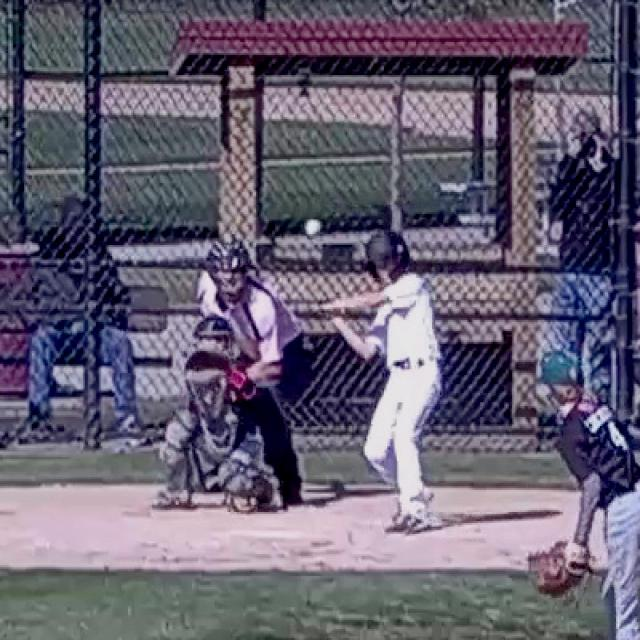baseball: (306, 220, 320, 234)
